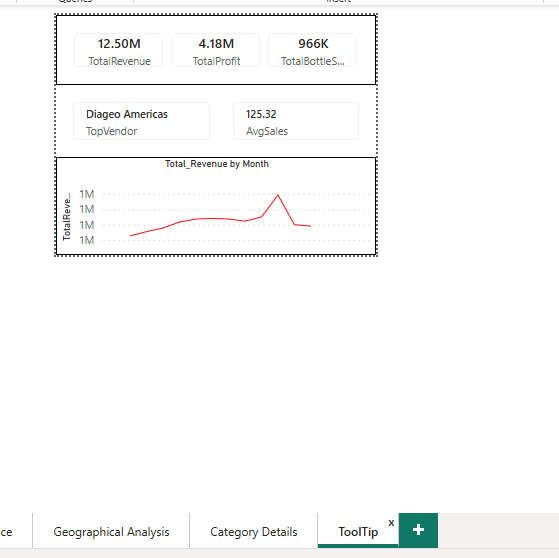

The page's visual inventory and layout, read from the dashboard file:
{"tool":"powerbi","page":{"name":"ToolTip","canvas":[320,240],"ordinal":4},"visuals":[{"type":"cardVisual","fields":{"Data":["LiquorSales_dataset.Total_Revenue","LiquorSales_dataset.Total_Profit","LiquorSales_dataset.Total_Bottle_Sold"]},"box":[0,0,320,70],"z":0},{"type":"lineChart","fields":{"Category":["DateTable.Month"],"Y":["LiquorSales_dataset.Total_Revenue"]},"box":[0,142,320,98],"z":1},{"type":"cardVisual","fields":{"Data":["Min(LiquorSales_dataset.Vendor Name)"]},"box":[0,70,171,72],"z":2},{"type":"cardVisual","fields":{"Data":["LiquorSales_dataset.Avg_sales"]},"box":[160,70,160,72],"z":3}]}

Visuals, with their boxes on the page's 320x240 design canvas (x1, y1, x2, y2). These are canvas units, not pixel positions in the 559x558 screenshot, which may show the page scaled, cropped or inside an application window:
cardVisual - LiquorSales_dataset.Total_Revenue x LiquorSales_dataset.Total_Profit: left=0, top=0, right=320, bottom=70
lineChart - DateTable.Month x LiquorSales_dataset.Total_Revenue: left=0, top=142, right=320, bottom=240
cardVisual - Min(LiquorSales_dataset.Vendor Name): left=0, top=70, right=171, bottom=142
cardVisual - LiquorSales_dataset.Avg_sales: left=160, top=70, right=320, bottom=142
